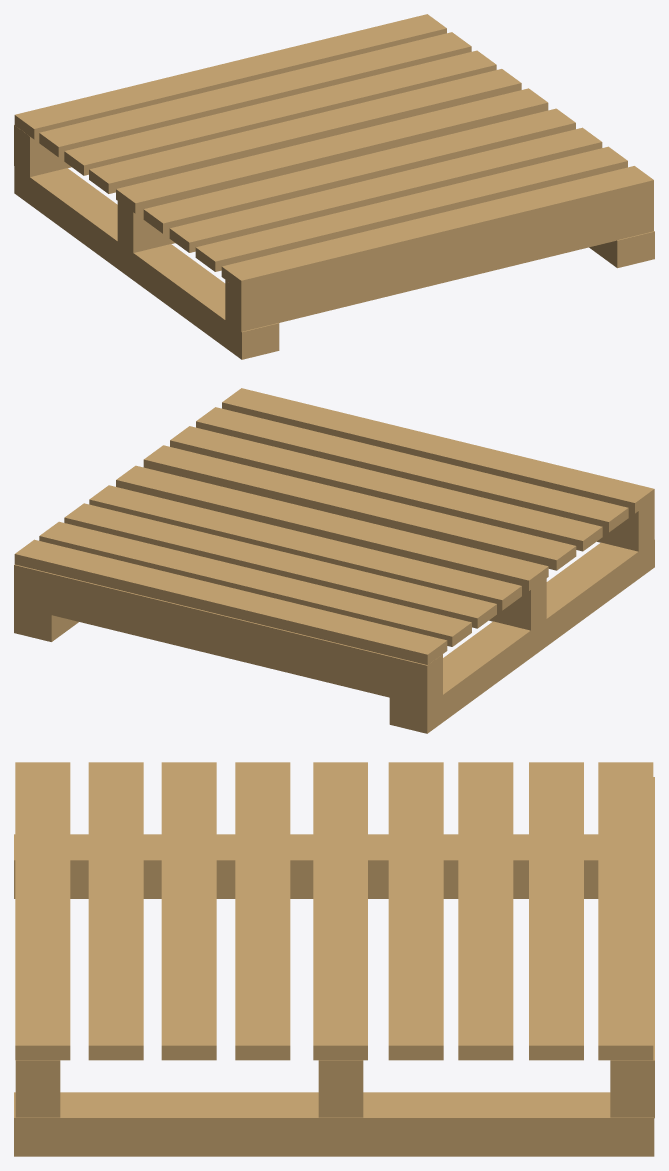
File: pallet.fbx
3 views of the same model, one above another, from view 1: azimuth 30°, elevation 25°; view 2: azimuth 150°, elevation 25°; view 3: azimuth 270°, elevation 25° (orthographic). The views are drawn at different scales.
Visible parts, largest first — view 1: pallet; view 2: pallet; view 3: pallet.
Boxes of the visible parts, box(x1,y1,x2,y2) form: pallet: box(14, 14, 654, 359); pallet: box(14, 388, 654, 733); pallet: box(14, 762, 654, 1156).
Size of the model in its own units: 1099 by 200 by 1049.
